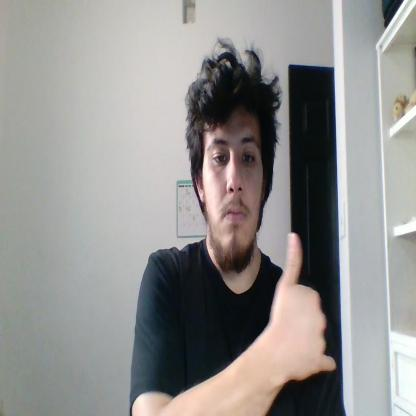Y: (270, 232, 336, 380)
